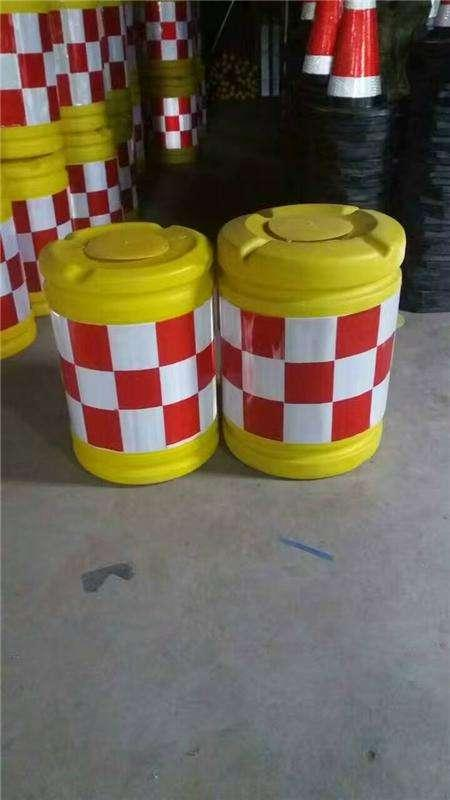sign: (216, 206, 406, 478), (36, 218, 210, 479)
